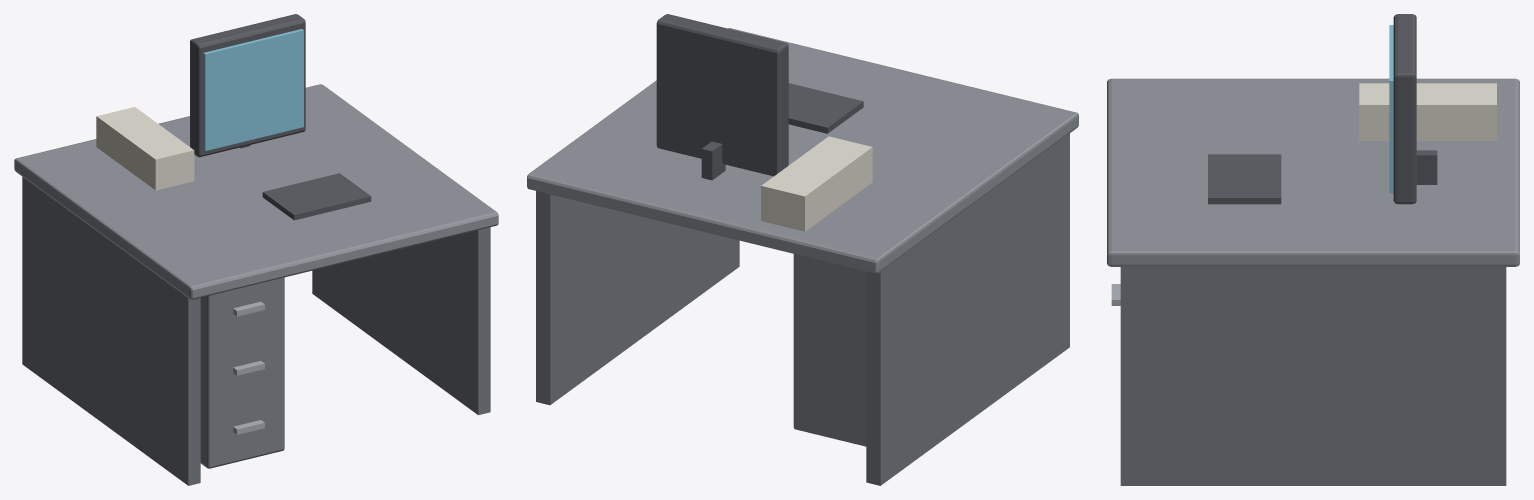
File: prop_desk.fbx
3 views of the same model, side by side, from view 1: azimuth 30°, elevation 25°; view 2: azimuth 150°, elevation 25°; view 3: azimuth 270°, elevation 25° (orthographic). The views are drawn at different scales.
Visible parts, largest first — view 1: prop_desk; view 2: prop_desk; view 3: prop_desk.
Boxes of the visible parts, bbox=[...] form: prop_desk: bbox=[14, 14, 498, 485]; prop_desk: bbox=[527, 14, 1078, 485]; prop_desk: bbox=[1107, 14, 1519, 485].
Bounding box in the file's own units: 1 × 1 × 1.
